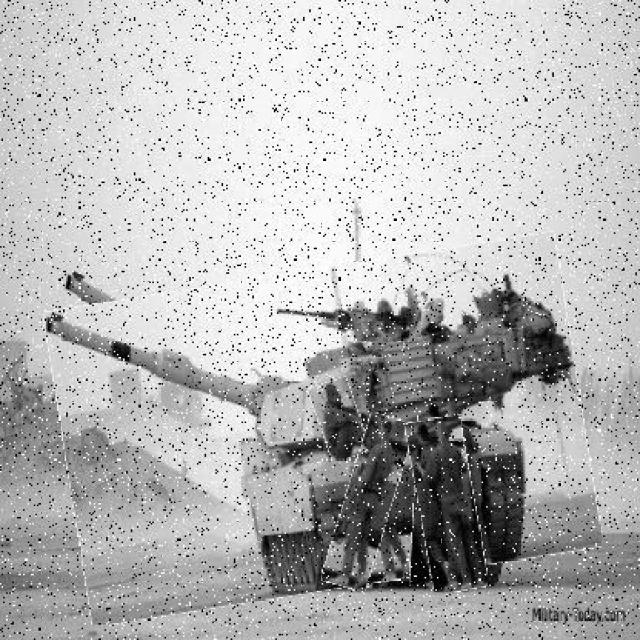Person: (333, 415, 404, 593), (414, 417, 483, 594), (413, 420, 452, 589), (315, 379, 367, 461)
Tank: (55, 250, 593, 609)
